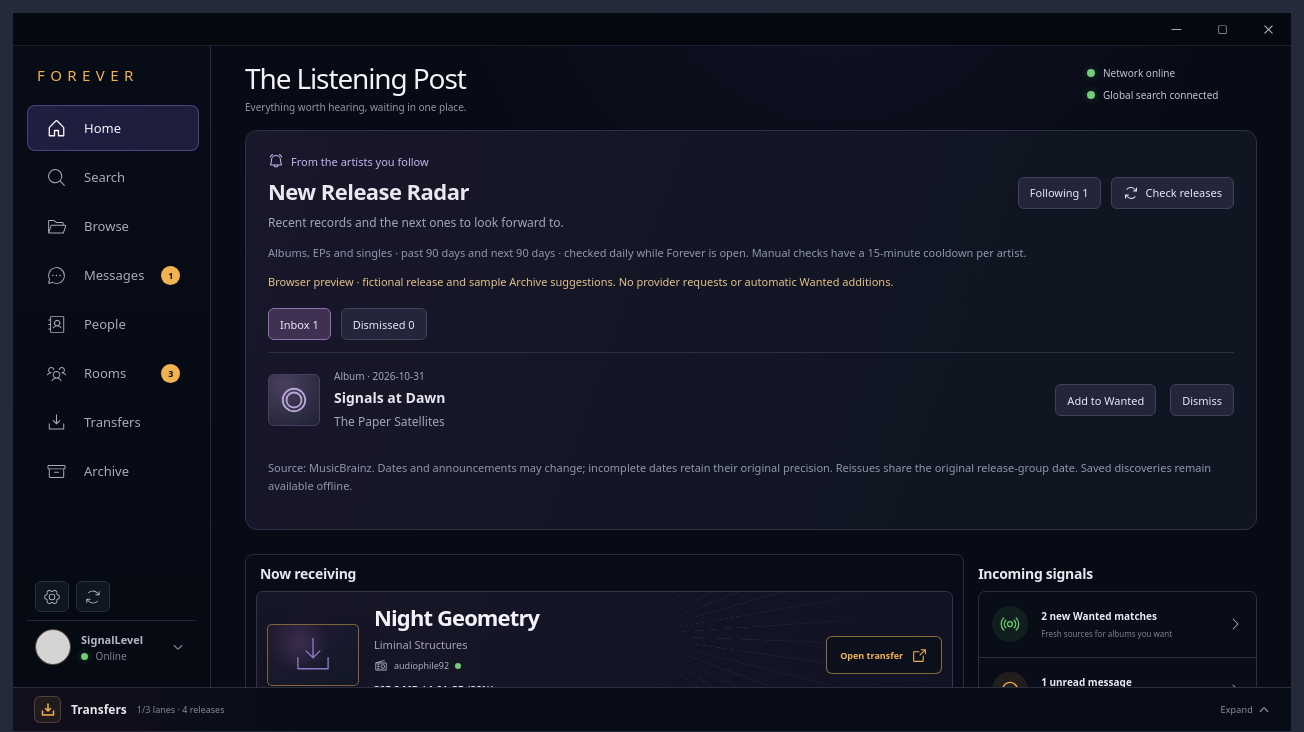
Test: Forever shell › keeps the transfer shelf collapsed by default and toggles it on demand
The width and height of the screenshot is (1304, 732).
Step 1. Click the button with aria-label "Expand transfer activity" → [99, 710], box [13,688,1291,731]
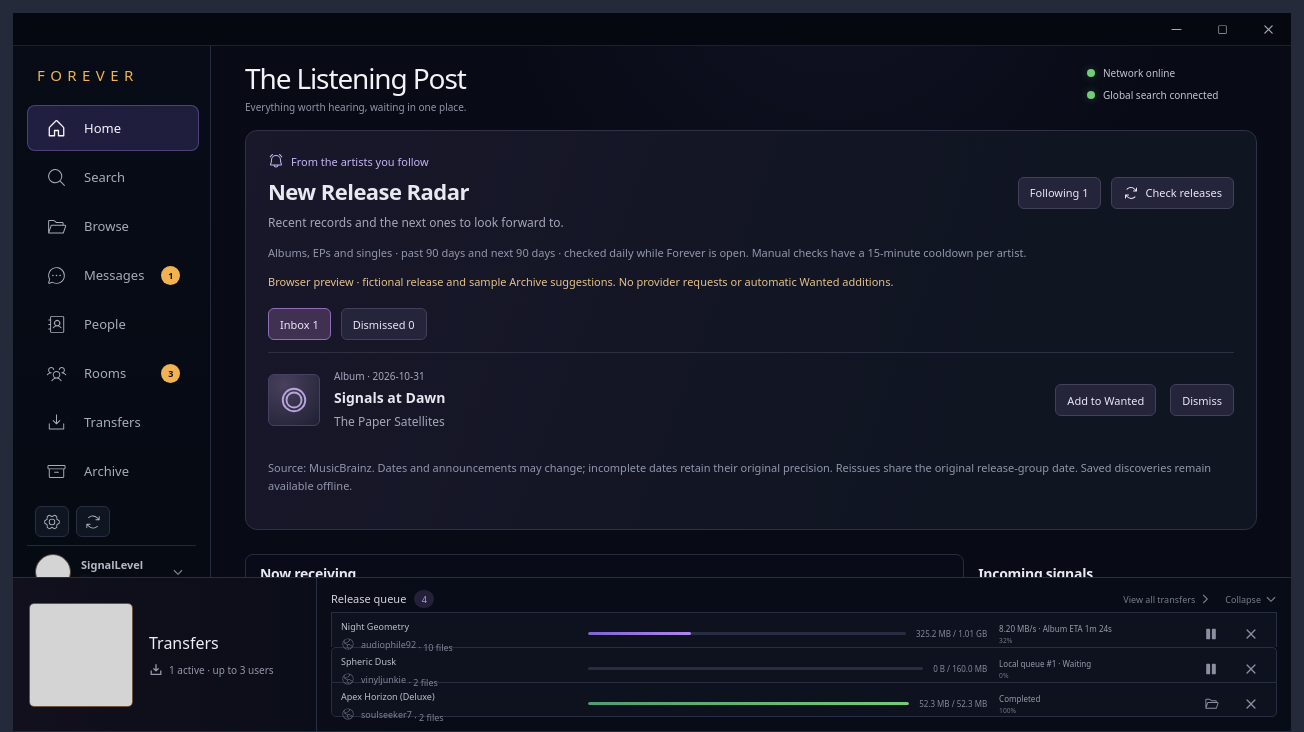
Now the element with id "transfer-shelf-panel" is shown, box [13,578,1291,731]
Now the text "Release queue" is shown, box [331,590,409,606]
Now the button named "Pause Night Geometry" is shown, box [1199,622,1223,646]
Step 2. Click the button with aria-label "Collapse transfer activity" → [1251, 599], box [1225,592,1277,606]
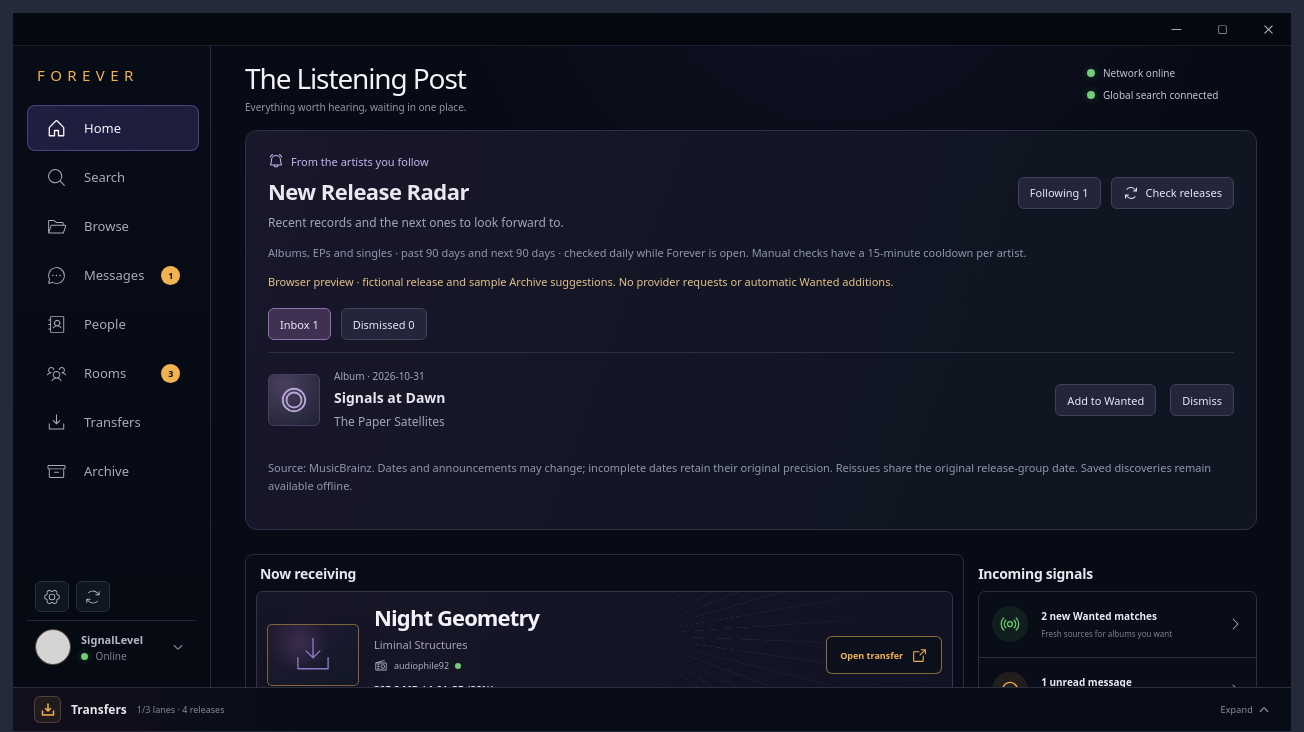
Now the button with aria-label "Expand transfer activity" is shown
Now the button with id "transfer-shelf-panel" is gone
Step 3. Click the button with aria-label "Expand transfer activity" → [99, 710], box [13,688,1291,731]
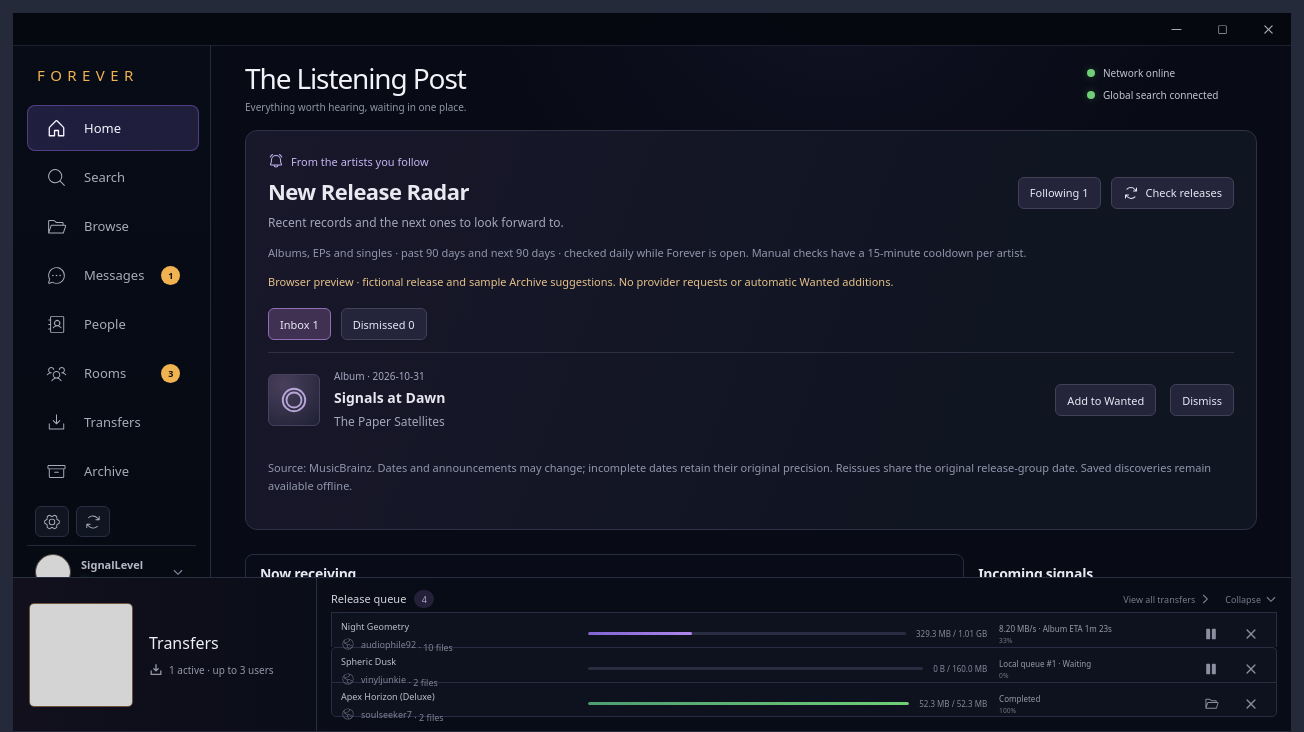
Step 4. Click the button "View all transfers" → [1167, 599], box [1123,592,1211,606]
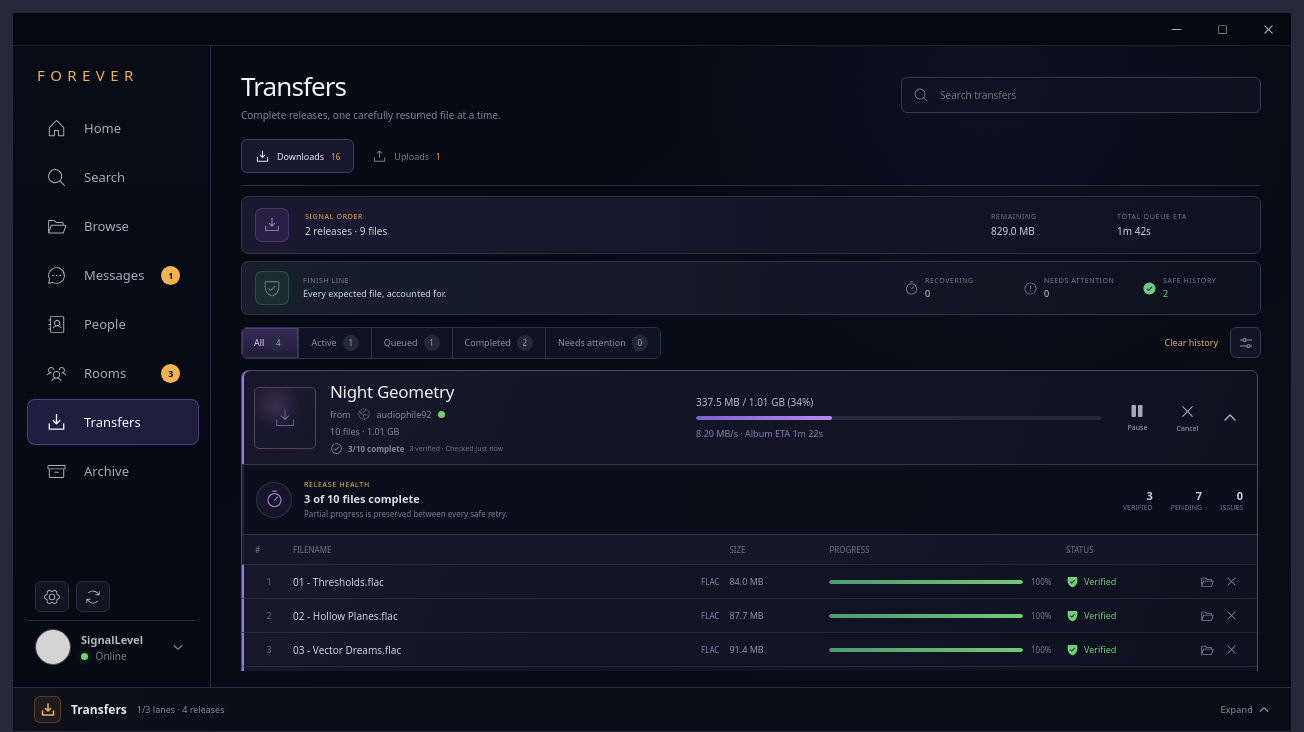
Now the heading "Transfers" is shown, box [241,68,346,104]
Now the button with aria-label "Expand transfer activity" is shown, box [13,688,1291,731]
